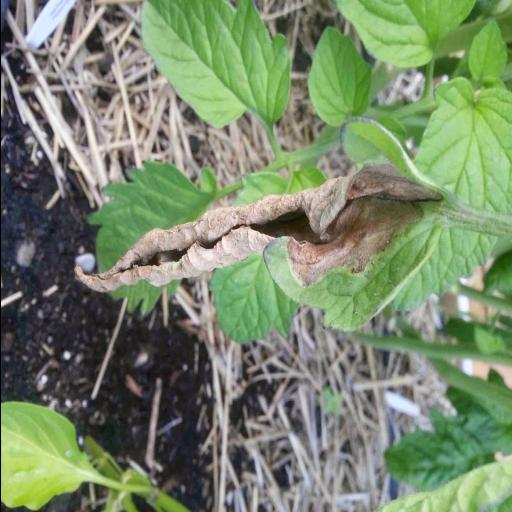disease_tomato: (76, 128, 460, 328)
